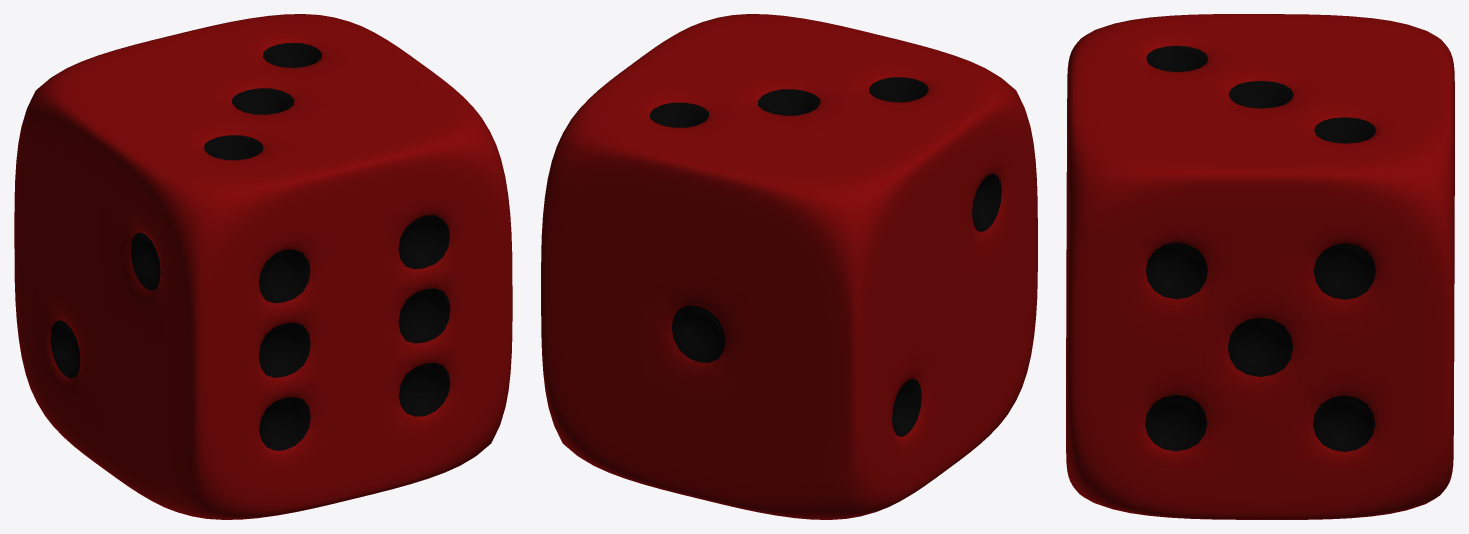
File: die_d6.FBX
3 views of the same model, side by side, from view 1: azimuth 30°, elevation 25°; view 2: azimuth 150°, elevation 25°; view 3: azimuth 270°, elevation 25° (orthographic). The views are drawn at different scales.
Parts seen in each view (by area): view 1: d6; view 2: d6; view 3: d6.
Part boxes in pixels (box(x1,y1,x2,y2)): d6: box(14, 14, 512, 519); d6: box(541, 14, 1037, 519); d6: box(1066, 14, 1454, 519).
Size of the model in its own units: 0.5912 by 0.593 by 0.593.
